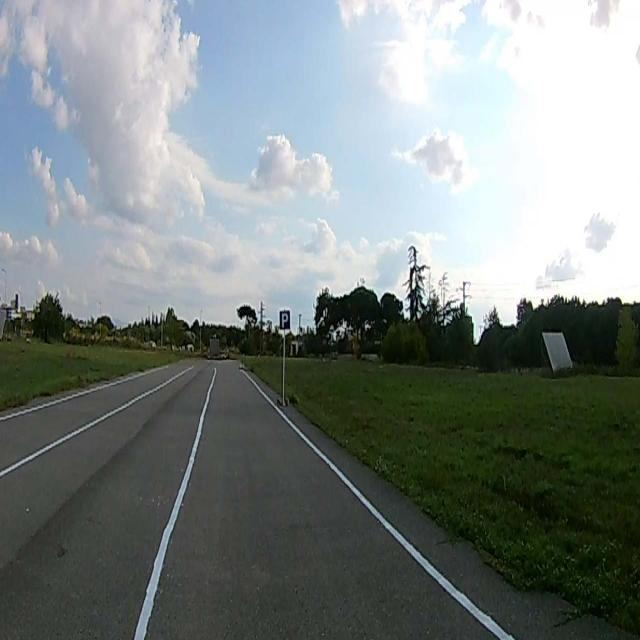park: (279, 310, 291, 328)
